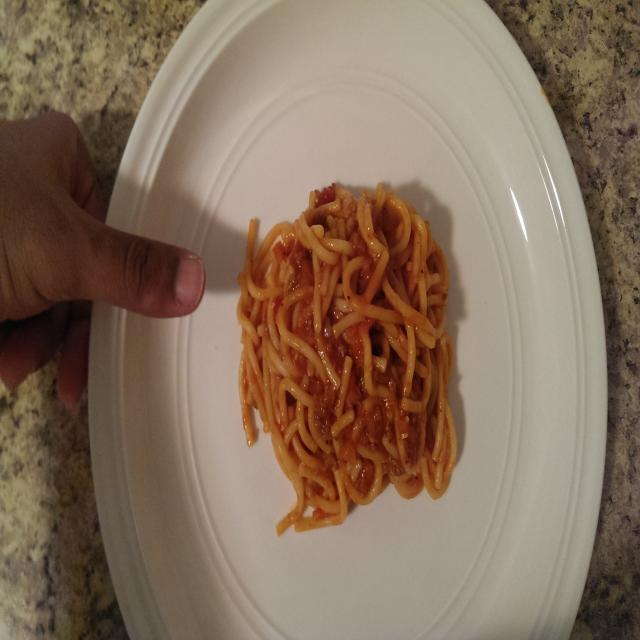Finger: (119, 222, 209, 326)
Pasta: (234, 180, 462, 542)
